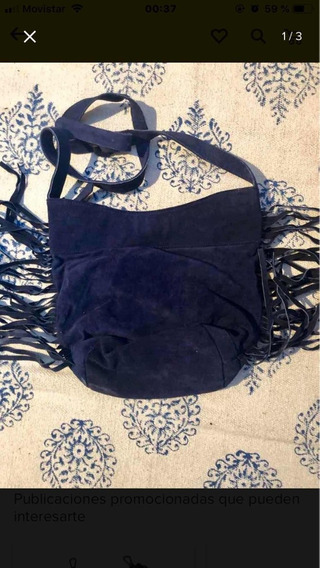cartera: (42, 93, 274, 399)
